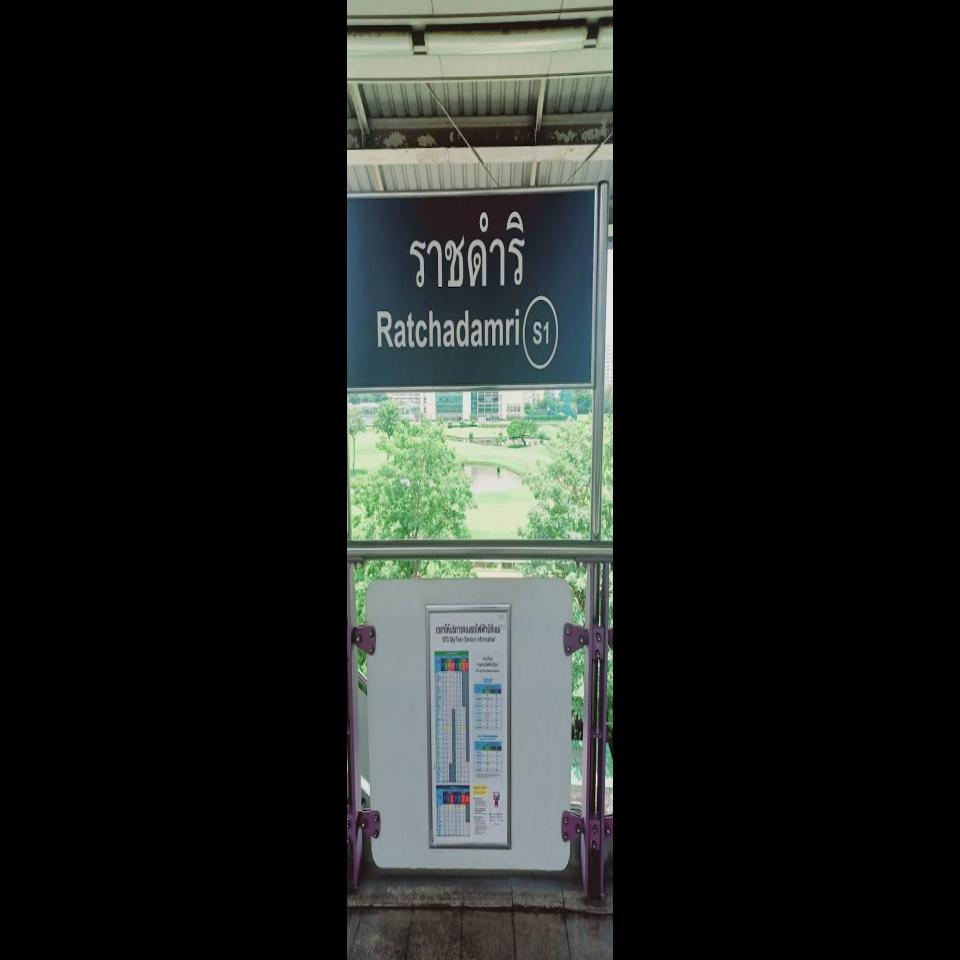signage: (347, 184, 599, 392)
